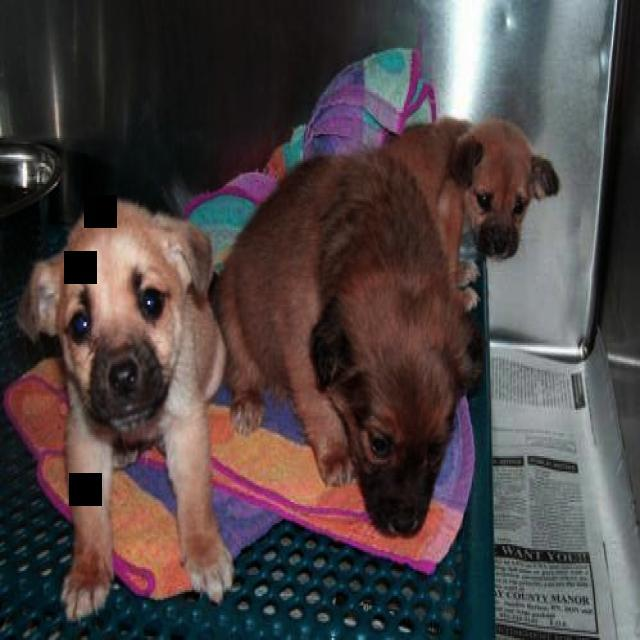puppy-dog: (213, 150, 478, 540), (17, 194, 235, 622), (374, 114, 564, 313)
